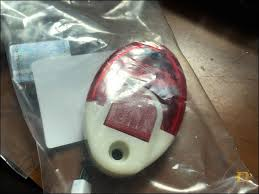bell: (85, 39, 190, 178)
